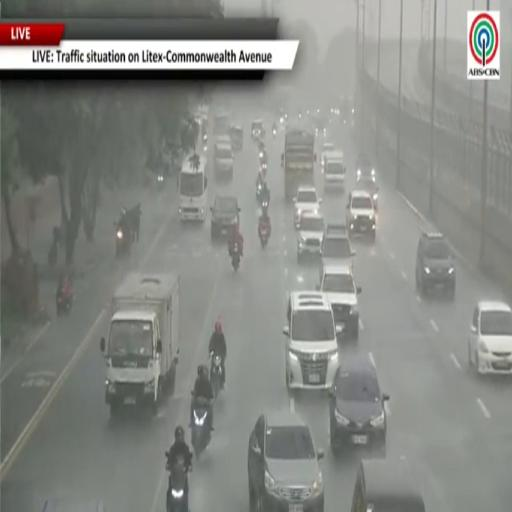car: (248, 410, 323, 511), (330, 355, 389, 456), (283, 292, 342, 390), (351, 458, 426, 511), (318, 265, 361, 340), (469, 301, 511, 374), (416, 232, 455, 298), (320, 223, 355, 277), (346, 190, 376, 242), (297, 212, 325, 264), (211, 196, 240, 241), (294, 186, 321, 228), (324, 151, 345, 190), (215, 136, 234, 179), (355, 176, 378, 210), (42, 500, 109, 511), (356, 153, 375, 179), (321, 142, 334, 168), (230, 125, 243, 151), (252, 120, 264, 138)
motorcycle: (166, 453, 190, 511), (191, 392, 211, 459), (210, 352, 223, 399), (115, 223, 131, 257), (56, 291, 73, 316), (258, 223, 270, 248), (232, 244, 240, 271), (256, 182, 262, 202), (259, 151, 267, 164), (157, 173, 164, 187), (261, 162, 267, 174), (203, 134, 207, 151), (273, 128, 276, 138)
truck: (101, 272, 179, 414), (282, 123, 316, 201), (179, 156, 207, 221), (213, 112, 230, 141)
